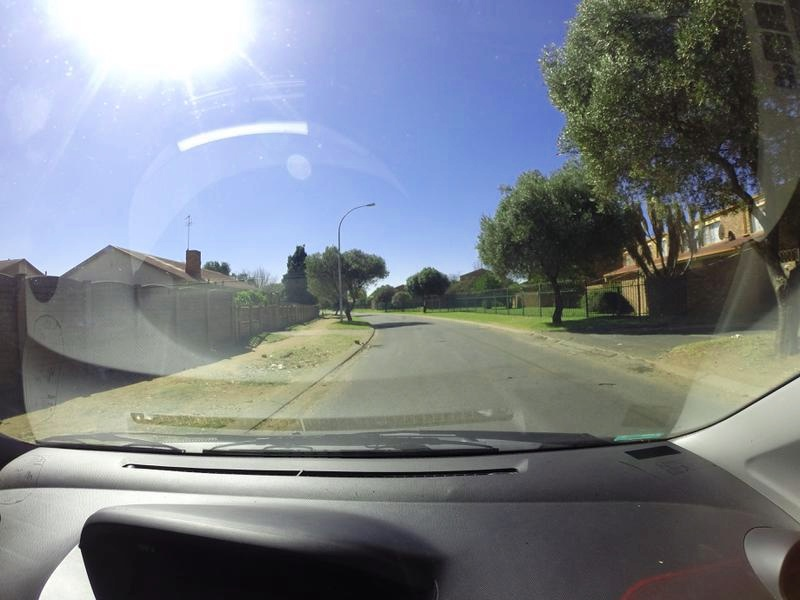pothole: (595, 373, 626, 398)
